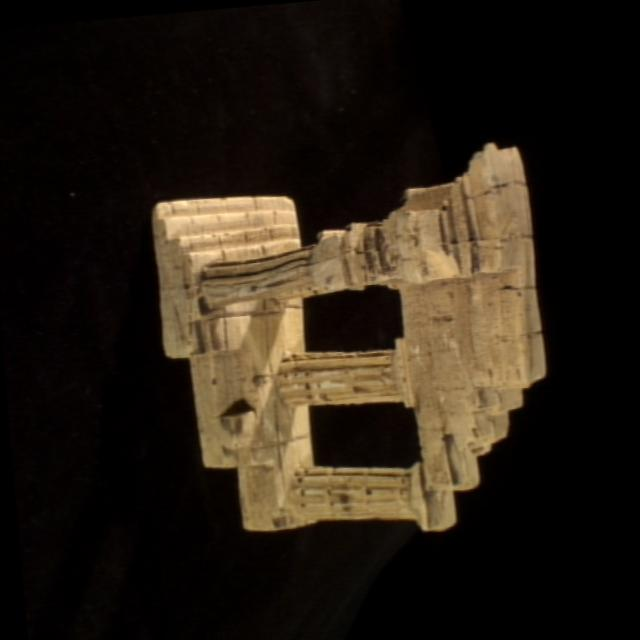Instance-Segmentation: (153, 145, 544, 529)
